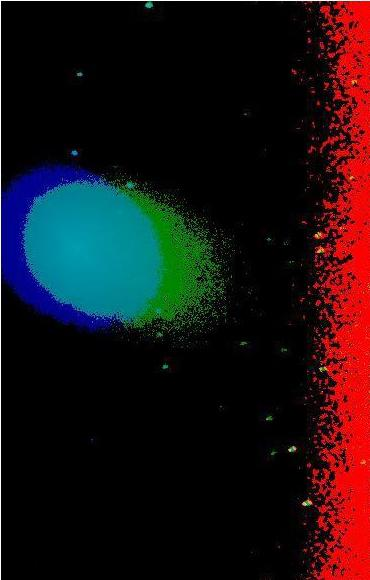star: (47, 60, 77, 90)
